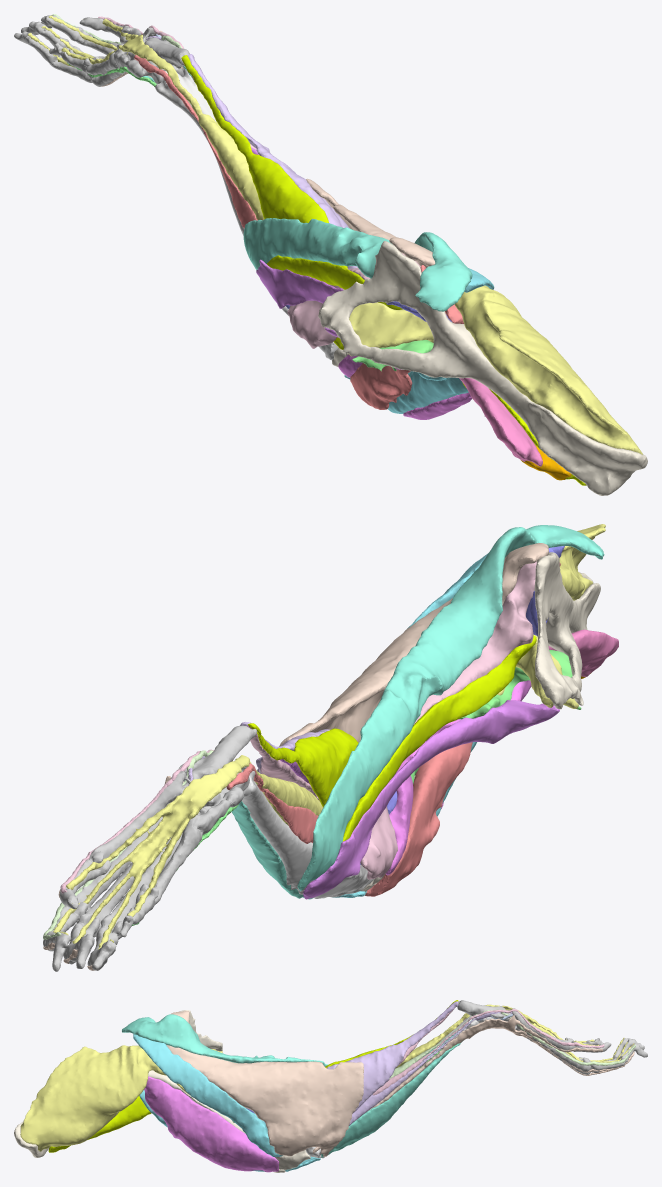
Rendered from charles2016-hindlimb.glb.
3 renders of one model, top to bottom at view 1: azimuth 30°, elevation 25°; view 2: azimuth 150°, elevation 25°; view 3: azimuth 270°, elevation 25°, orthographic. The views are drawn at different scales.
Parts seen in each view (by area): view 1: charles2016-hindlimb:16, charles2016-hindlimb:27, charles2016-hindlimb:40, charles2016-hindlimb:19, charles2016-hindlimb:3, charles2016-hindlimb:10, charles2016-hindlimb:28, charles2016-hindlimb:29, charles2016-hindlimb:39, charles2016-hindlimb:32, charles2016-hindlimb:8, charles2016-hindlimb:35 (+6 smaller); view 2: charles2016-hindlimb:40, charles2016-hindlimb:19, charles2016-hindlimb:3, charles2016-hindlimb:39, charles2016-hindlimb:16, charles2016-hindlimb:35, charles2016-hindlimb:42, charles2016-hindlimb:43, charles2016-hindlimb:32, charles2016-hindlimb:20, charles2016-hindlimb:10, charles2016-hindlimb:33 (+9 smaller); view 3: charles2016-hindlimb:35, charles2016-hindlimb:27, charles2016-hindlimb:30, charles2016-hindlimb:36, charles2016-hindlimb:40, charles2016-hindlimb:19, charles2016-hindlimb:8, charles2016-hindlimb:13, charles2016-hindlimb:12, charles2016-hindlimb:3, charles2016-hindlimb:24, charles2016-hindlimb:0 (+5 smaller).
Boxes of the visible parts, x1,y1,x2,y2 form: charles2016-hindlimb:16: (318, 241, 647, 495); charles2016-hindlimb:27: (454, 285, 642, 454); charles2016-hindlimb:40: (243, 218, 472, 311); charles2016-hindlimb:19: (14, 15, 189, 86); charles2016-hindlimb:3: (28, 15, 264, 220); charles2016-hindlimb:10: (181, 55, 347, 349); charles2016-hindlimb:28: (348, 302, 433, 355); charles2016-hindlimb:29: (459, 378, 542, 466); charles2016-hindlimb:39: (256, 259, 344, 337); charles2016-hindlimb:32: (350, 363, 412, 409); charles2016-hindlimb:8: (187, 54, 357, 268); charles2016-hindlimb:35: (306, 178, 435, 267); charles2016-hindlimb:40: (297, 525, 604, 891); charles2016-hindlimb:19: (43, 725, 257, 971); charles2016-hindlimb:3: (53, 755, 323, 949); charles2016-hindlimb:39: (303, 700, 559, 899); charles2016-hindlimb:16: (534, 552, 600, 709); charles2016-hindlimb:35: (279, 543, 548, 746); charles2016-hindlimb:42: (360, 561, 536, 879); charles2016-hindlimb:43: (343, 635, 536, 841); charles2016-hindlimb:32: (365, 742, 472, 896); charles2016-hindlimb:20: (241, 767, 373, 898); charles2016-hindlimb:10: (247, 723, 358, 807); charles2016-hindlimb:33: (385, 680, 531, 875); charles2016-hindlimb:35: (162, 1011, 363, 1156); charles2016-hindlimb:27: (20, 1045, 166, 1151); charles2016-hindlimb:30: (144, 1076, 278, 1172); charles2016-hindlimb:36: (133, 1034, 282, 1156); charles2016-hindlimb:40: (122, 1014, 328, 1066); charles2016-hindlimb:19: (457, 1000, 647, 1074); charles2016-hindlimb:8: (327, 1001, 458, 1113); charles2016-hindlimb:13: (321, 1041, 462, 1157); charles2016-hindlimb:12: (312, 1015, 634, 1153); charles2016-hindlimb:3: (396, 1004, 634, 1067); charles2016-hindlimb:24: (48, 1095, 151, 1152); charles2016-hindlimb:0: (372, 1009, 604, 1095).
Size of the model in its own units: 0.0101 by 0.0141 by 0.0515.
